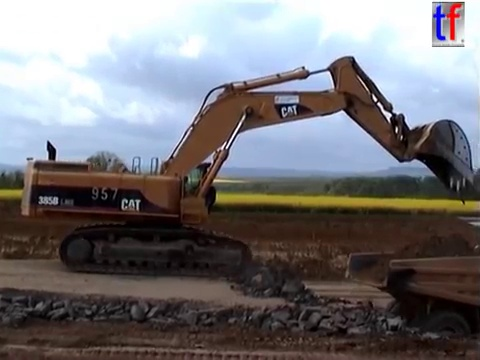excavator: (18, 53, 477, 280)
truck: (342, 246, 480, 360)
